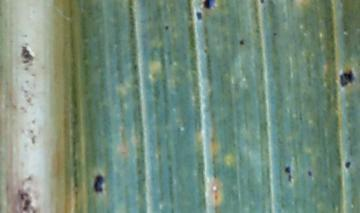tarspot: (339, 69, 354, 87), (94, 175, 104, 194), (204, 1, 216, 10), (195, 11, 204, 21), (271, 29, 279, 38), (344, 160, 351, 169), (239, 38, 245, 47), (285, 165, 291, 174), (287, 174, 292, 184), (307, 170, 313, 178), (164, 24, 170, 31), (259, 1, 266, 5)
